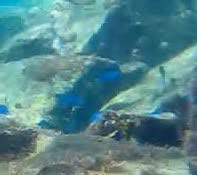smallfish: (49, 126, 119, 154)
